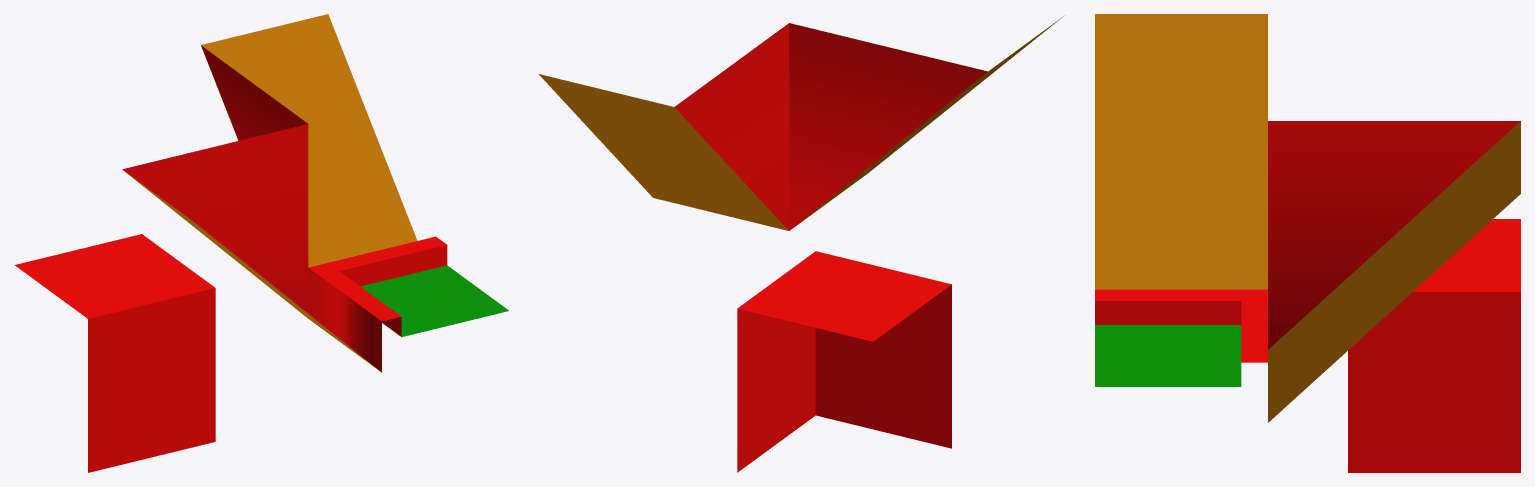
The picture shows the model from 3 angles, left to right: view 1: azimuth 30°, elevation 25°; view 2: azimuth 150°, elevation 25°; view 3: azimuth 270°, elevation 25°; orthographic projection. The views are drawn at different scales.
Parts seen in each view (by area): view 1: None_S_W_E_E_E_S_A_E_None; view 2: None_S_W_E_E_E_S_A_E_None; view 3: None_S_W_E_E_E_S_A_E_None.
Boxes of the visible parts, <box> form: None_S_W_E_E_E_S_A_E_None: <box>14,14,508,472</box>; None_S_W_E_E_E_S_A_E_None: <box>539,16,1063,472</box>; None_S_W_E_E_E_S_A_E_None: <box>1095,14,1520,472</box>.
Size of the model in its own units: 100 by 100 by 100.
